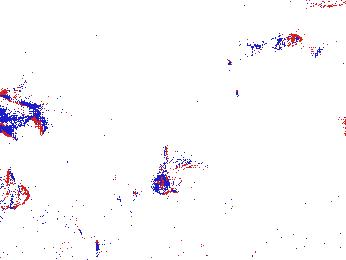X-ray fish: (153, 153, 199, 196), (1, 181, 34, 207), (115, 172, 135, 214)
red belly glassfish: (246, 31, 301, 53), (305, 1, 346, 10)
redtail glassfish: (1, 92, 47, 131), (302, 37, 346, 68)
